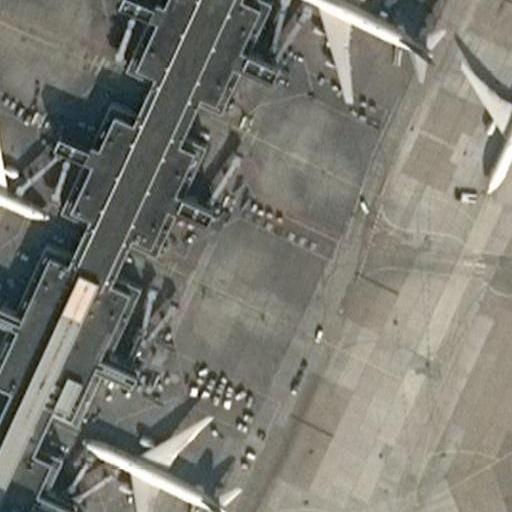Aircraft: (73, 400, 244, 512), (261, 0, 443, 100), (447, 46, 512, 193), (0, 90, 52, 252)
